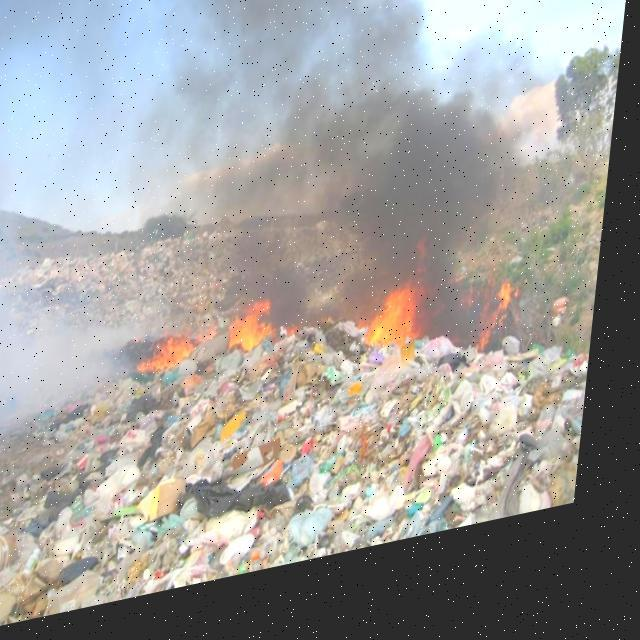Fire: (371, 294, 434, 379), (230, 298, 292, 369), (146, 333, 208, 393), (487, 305, 522, 377)
